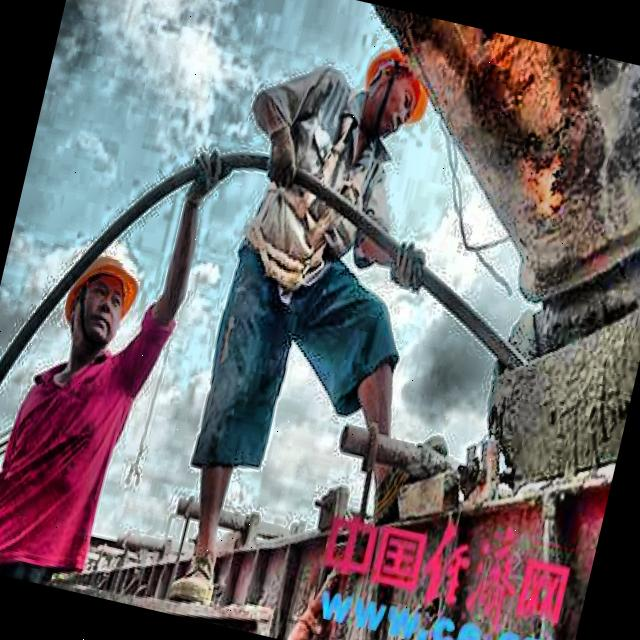helmet: (46, 233, 151, 368), (347, 32, 444, 154)
